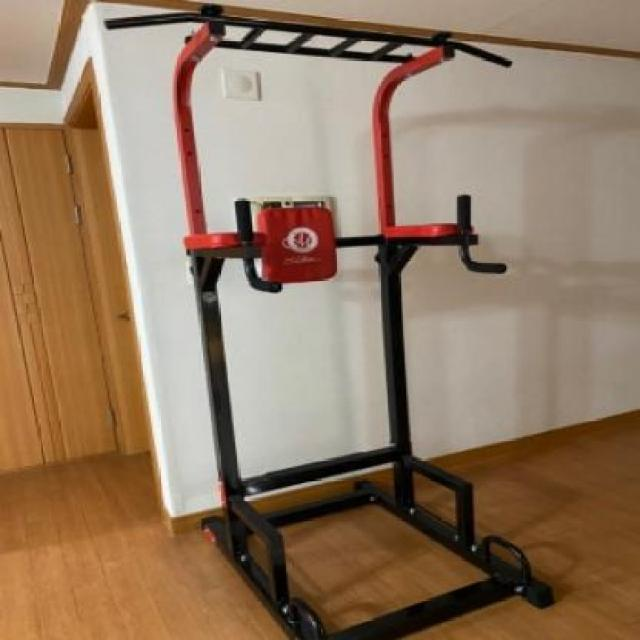chinning dipping: (110, 3, 556, 640)
